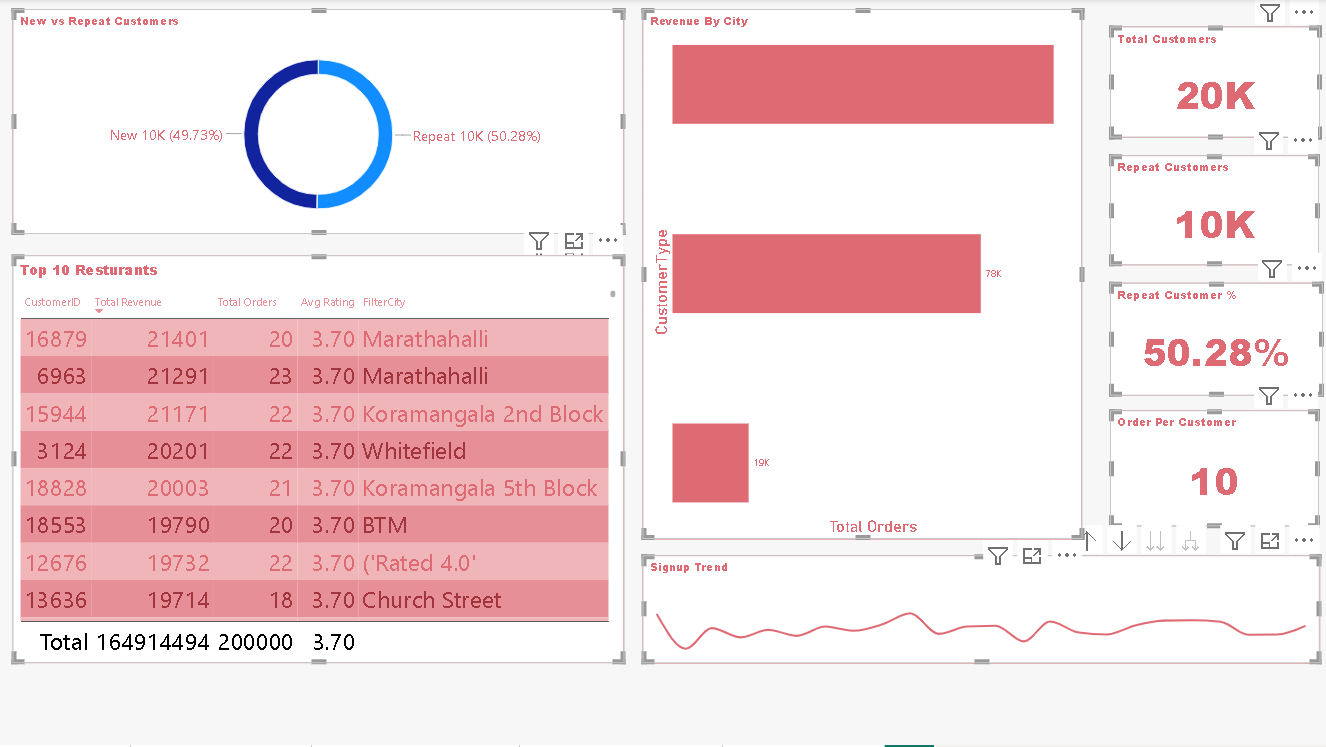

This screenshot's page, from the dashboard's own definition file:
{"tool":"powerbi","page":{"name":"Customer Analytics","canvas":[1920,1080],"ordinal":1},"visuals":[{"type":"cardVisual","title":"Total Customers","fields":{"Data":["Orders.Total Customers"]},"box":[1607,39.8,304,161.1],"z":0},{"type":"cardVisual","title":"Repeat Customers","fields":{"Data":["Orders.Repeat Customers"]},"box":[1607,226.2,302.2,159.3],"z":1000},{"type":"cardVisual","title":"Repeat Customer %","fields":{"Data":["Orders.Repeat Customer %"]},"box":[1607,410.8,307.6,162.9],"z":2000},{"type":"cardVisual","title":"Order Per Customer","fields":{"Data":["Orders.Orders Per Customer"]},"box":[1607,595.4,302.2,168.3],"z":3000},{"type":"lineChart","title":"Signup Trend","fields":{"Category":["Customers.SignupDate.Variation.Date Hierarchy.Year","Customers.SignupDate.Variation.Date Hierarchy.Month"],"Y":["Orders.Total Customers"]},"box":[930.4,804.8,979.8,156.4],"z":5000},{"type":"barChart","title":"Revenue By City","fields":{"Category":["Customers.CustomerType"],"Y":["Orders.Total Orders"]},"box":[930.4,14.4,636,767.8],"z":6000},{"type":"donutChart","title":"New vs Repeat Customers","fields":{"Y":["Orders.Total Customers"],"Category":["Customers.RepeatedvsNew"]},"box":[18.5,14.4,885.1,325.2],"z":7000},{"type":"tableEx","title":"Top 10 Resturants","fields":{"Values":["Orders.CustomerID","Orders.Total Revenue","Orders.Total Orders","Orders.Avg Rating","Customers.FilterCity"]},"box":[18.5,370.5,885.1,590.7],"z":8000}]}

Visuals, with their boxes in screenshot pixels (x1, y1, x2, y2), scaled from the page's 1920x1080 canvas onto the 1326x747 screenshot:
"Total Customers" cardVisual: 1110/28/1320/139
"Repeat Customers" cardVisual: 1110/156/1319/267
"Repeat Customer %" cardVisual: 1110/284/1322/397
"Order Per Customer" cardVisual: 1110/412/1319/528
"Signup Trend" lineChart: 643/557/1319/665
"Revenue By City" barChart: 643/10/1082/541
"New vs Repeat Customers" donutChart: 13/10/624/235
"Top 10 Resturants" tableEx: 13/256/624/665
